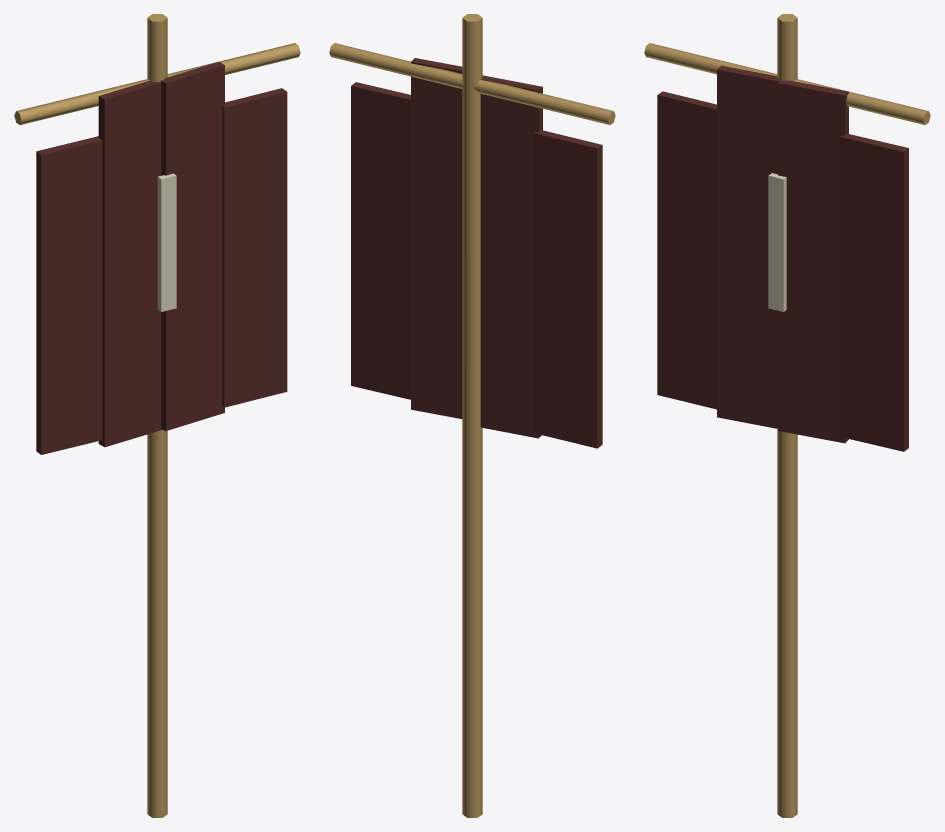
The model's file is banner.glb.
The picture shows the model from 3 angles, left to right: view 1: azimuth 30°, elevation 25°; view 2: azimuth 150°, elevation 25°; view 3: azimuth 330°, elevation 25°; orthographic projection.
Parts seen in each view (by area): view 1: torn-banner-panel (×4), banner-pole, banner-crossbar, banner-ivory-mark; view 2: torn-banner-panel (×4), banner-pole, banner-crossbar; view 3: torn-banner-panel (×4), banner-pole, banner-crossbar, banner-ivory-mark.
Part boxes in pixels (box(x1,y1,x2,y2)): torn-banner-panel (×4): box(36, 61, 287, 454); banner-pole: box(147, 14, 167, 817); banner-crossbar: box(14, 43, 300, 124); banner-ivory-mark: box(157, 173, 176, 311); torn-banner-panel (×4): box(351, 58, 602, 448); banner-pole: box(462, 14, 482, 817); banner-crossbar: box(329, 43, 615, 124); torn-banner-panel (×4): box(657, 65, 908, 451); banner-pole: box(777, 14, 797, 817); banner-crossbar: box(644, 43, 930, 124); banner-ivory-mark: box(768, 173, 786, 311).
Size of the model in its own units: 1.1 by 3 by 0.1135.
